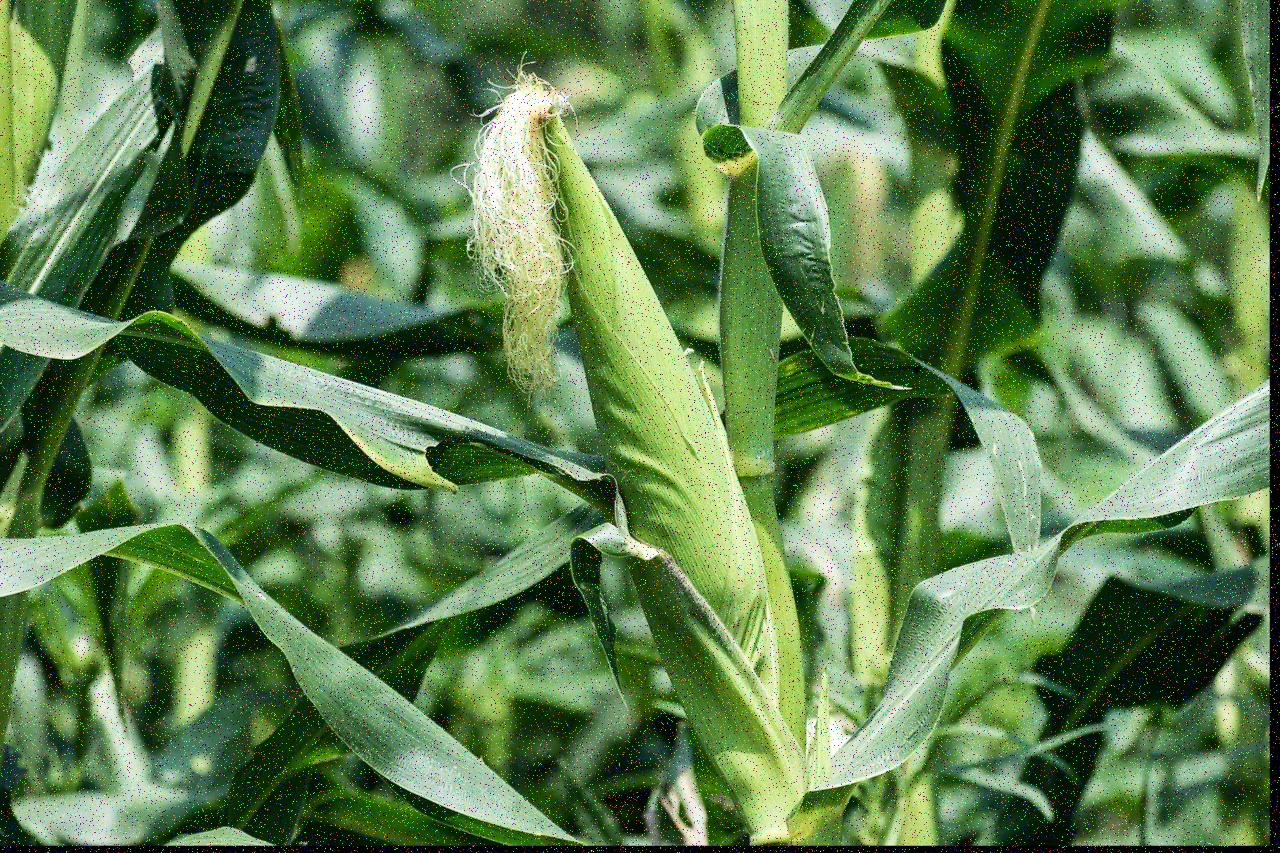corn_plant: (441, 72, 814, 786)
